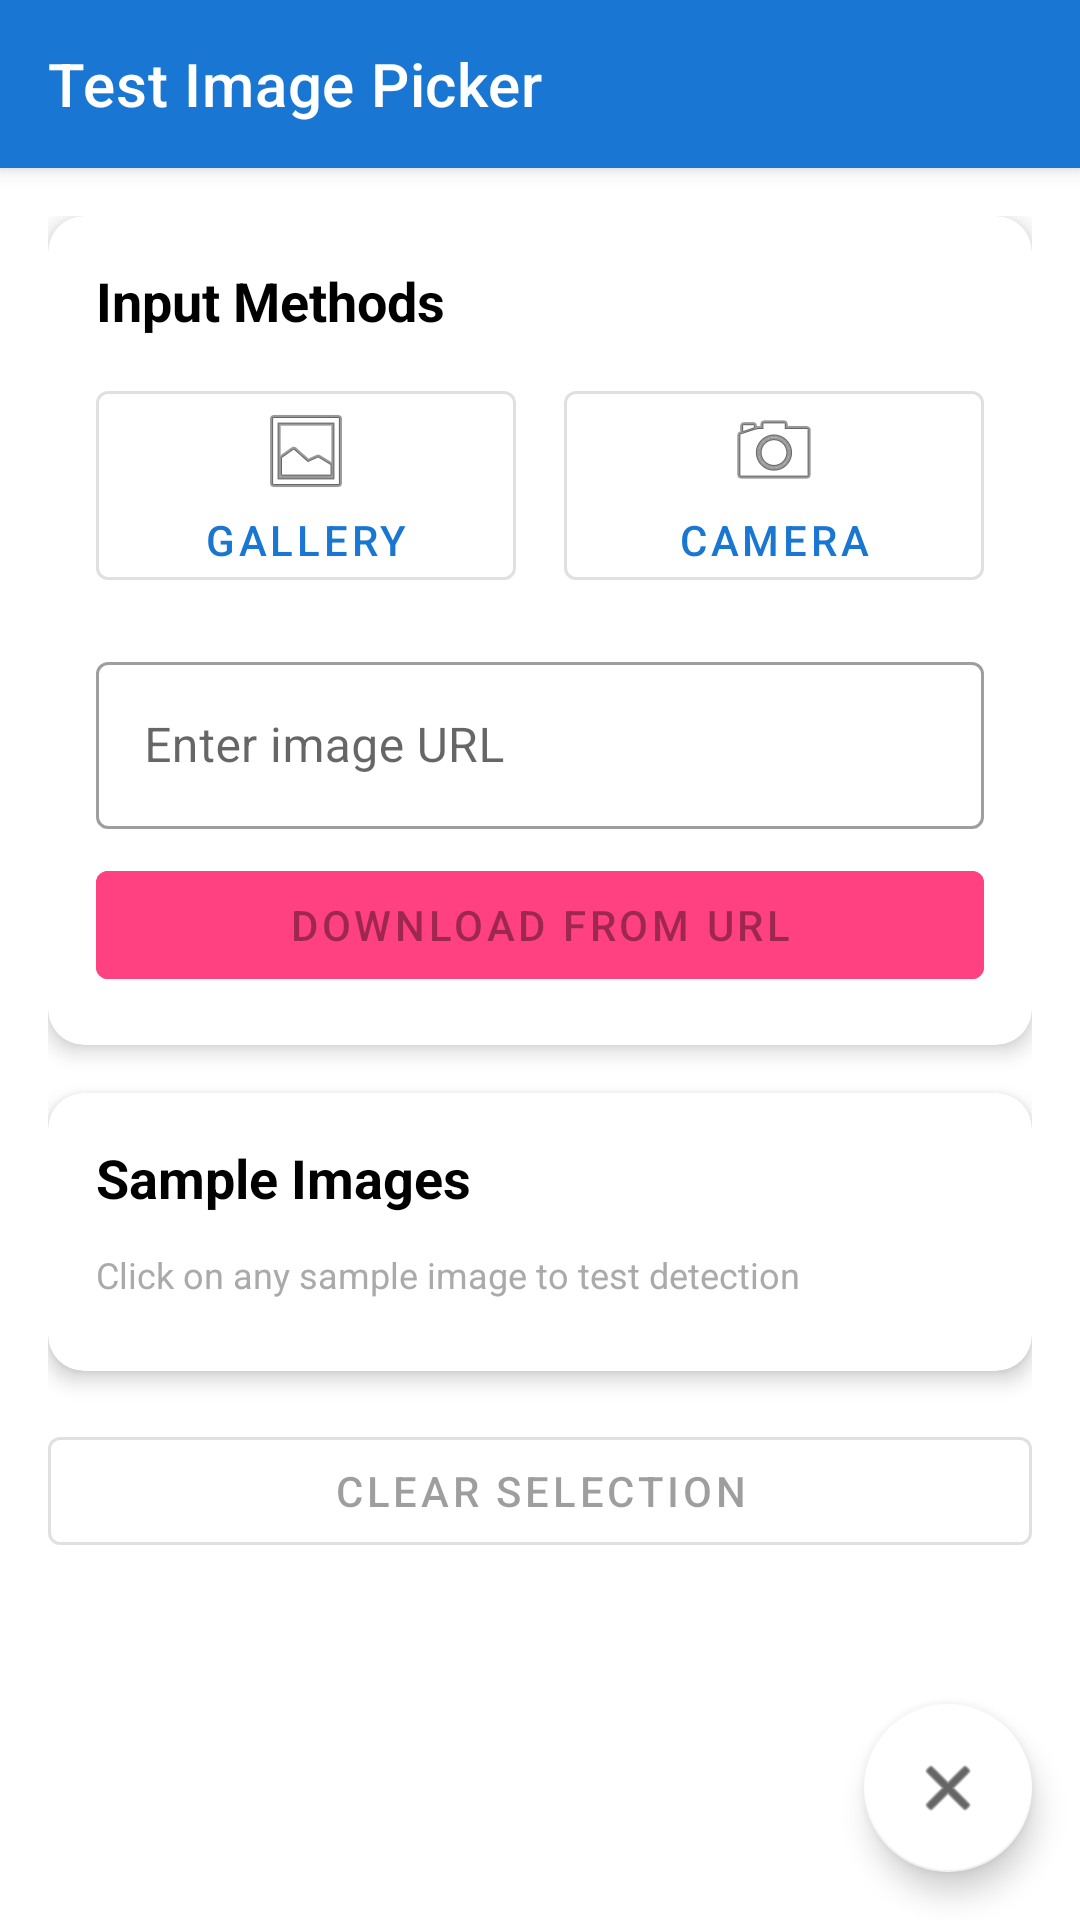

Screen size 1080px x 1920px. Icon name, then its center in pixels as point (x, y):
close clear cancel: point (950, 1818)
